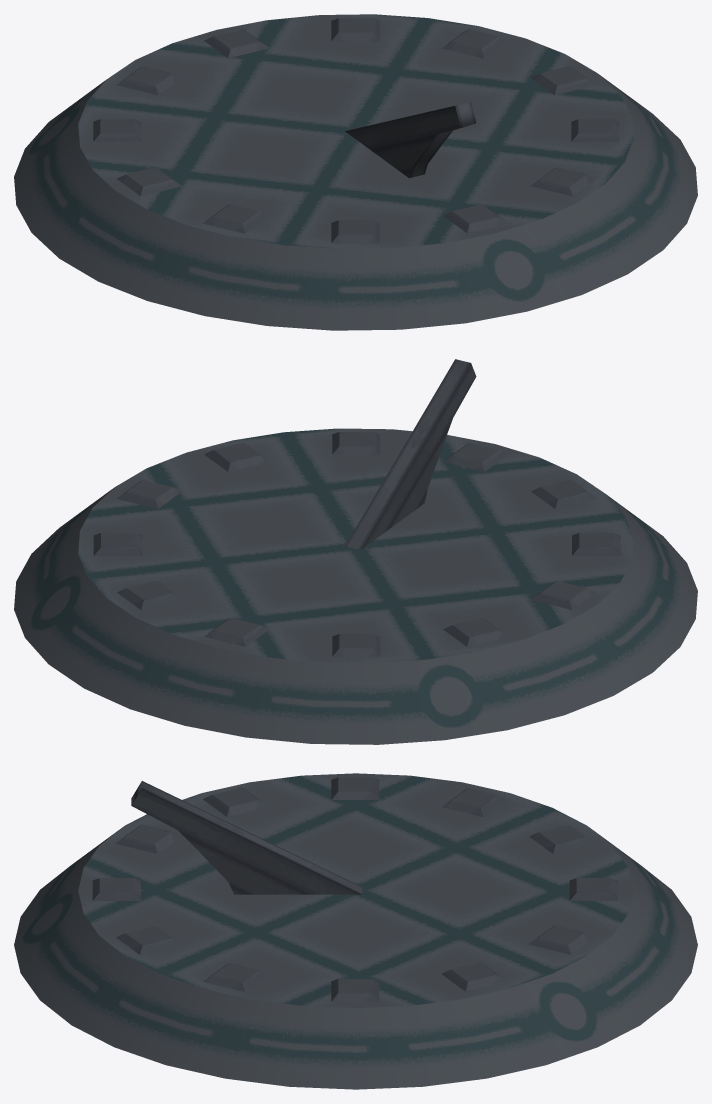
The model's file is Sunken Tomb Sundial.fbx.
The picture shows the model from 3 angles, top to bottom: view 1: azimuth 30°, elevation 25°; view 2: azimuth 150°, elevation 25°; view 3: azimuth 270°, elevation 25°; orthographic projection.
Parts seen in each view (by area): view 1: Sundial; view 2: Sundial; view 3: Sundial.
Boxes of the visible parts, <box> form: Sundial: <box>14,14,697,330</box>; Sundial: <box>14,359,697,744</box>; Sundial: <box>14,773,697,1089</box>.
Size of what is drawn, in the model's own units: 625 by 162 by 625.
